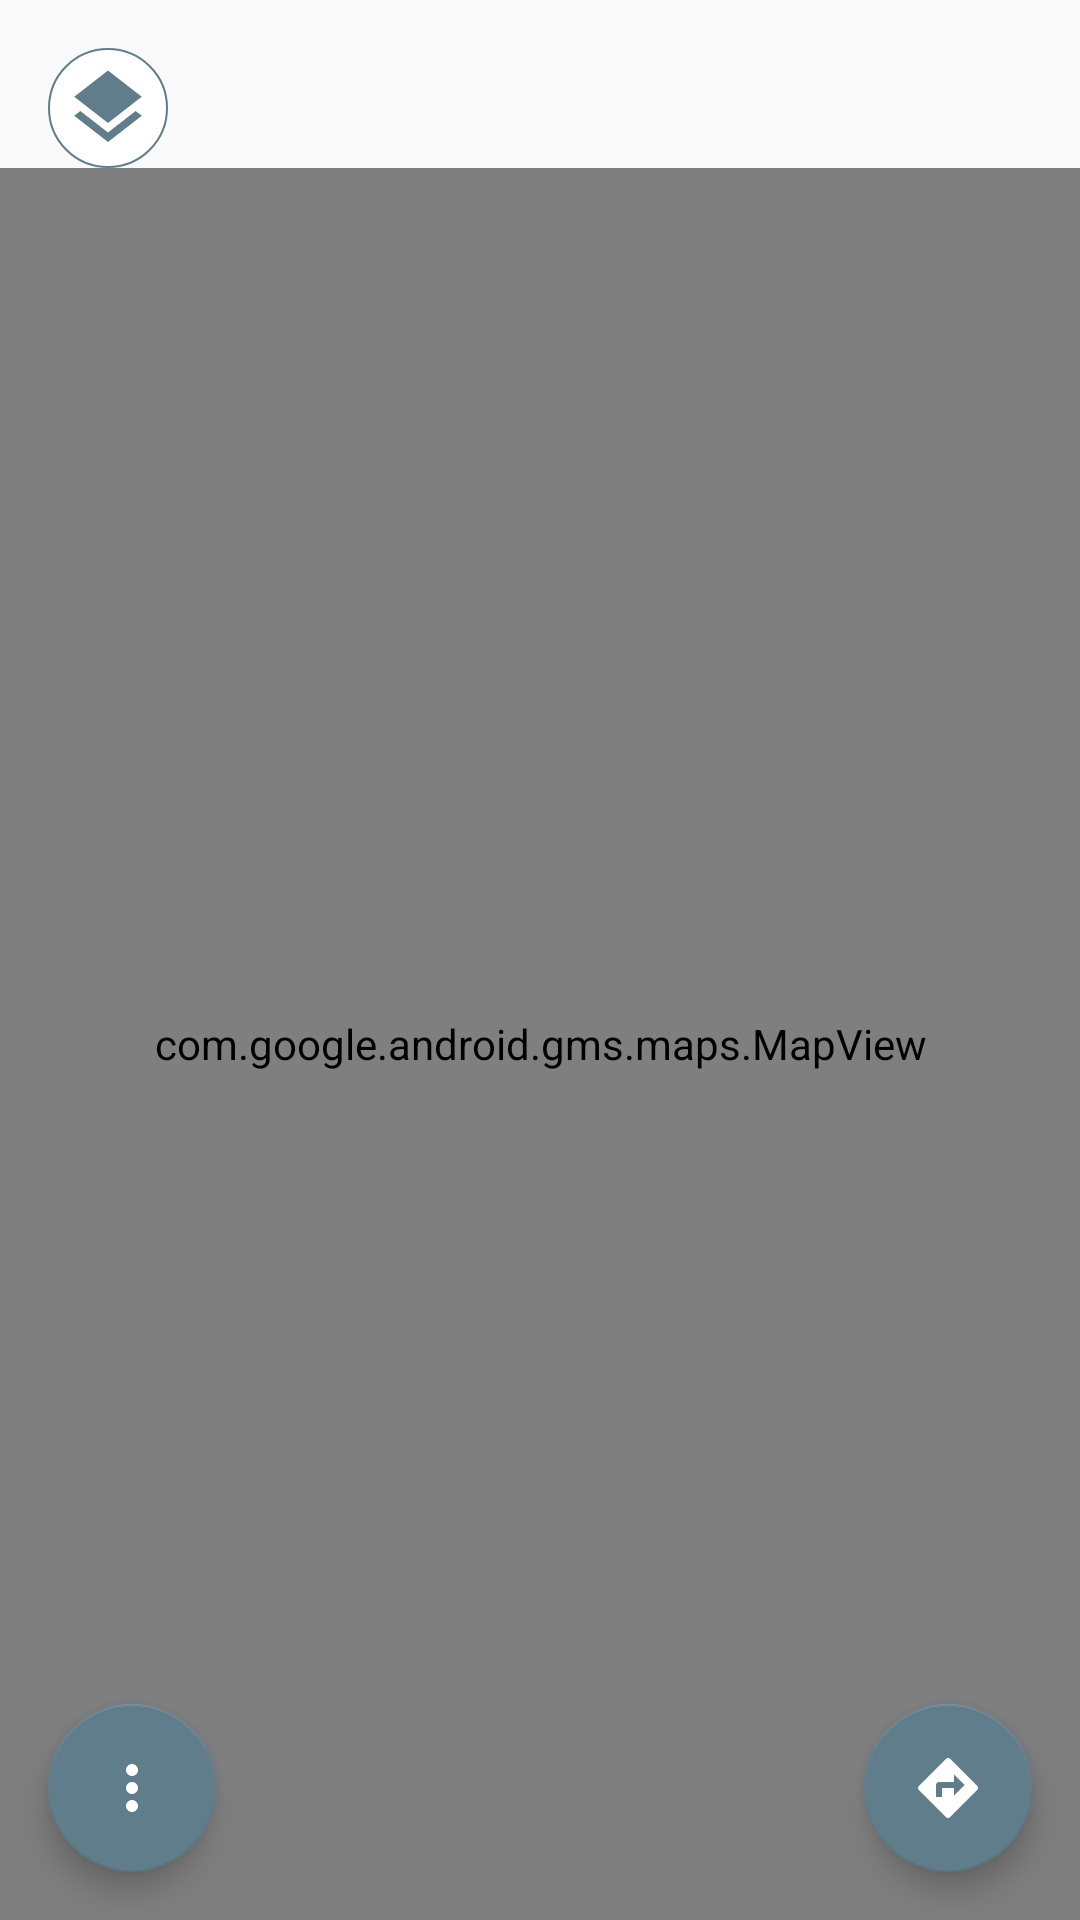

Icons on this 1080px×1920px Android screen, each with the point to tap as (x=x, y=y):
directions: (x=948, y=1788)
layers: (x=108, y=106)
more: (x=132, y=1788)
